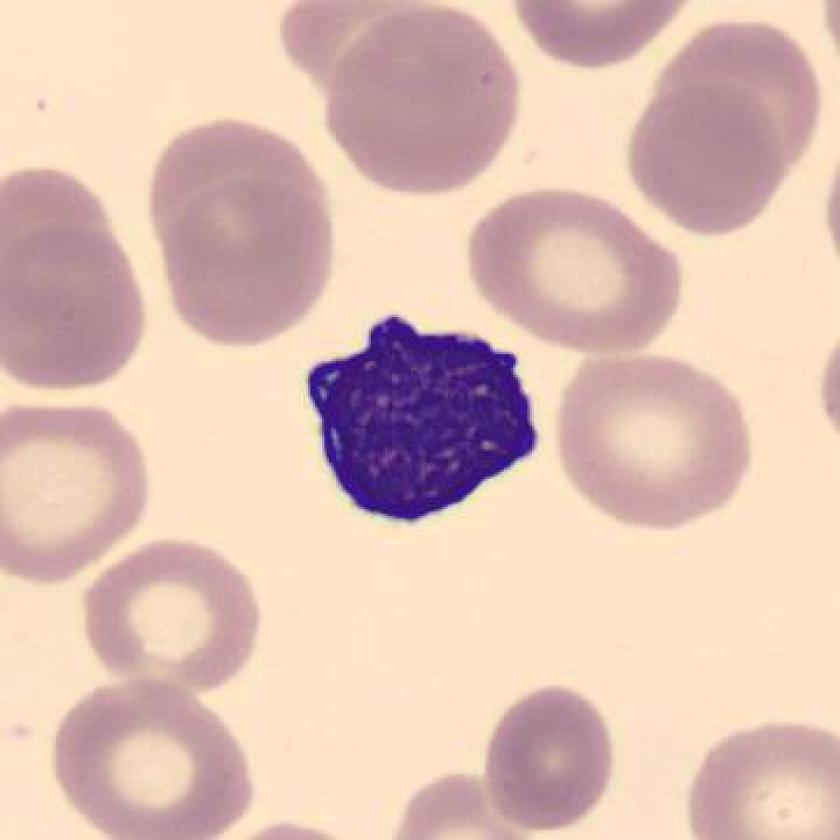lymphocyte: (293, 297, 549, 545)
